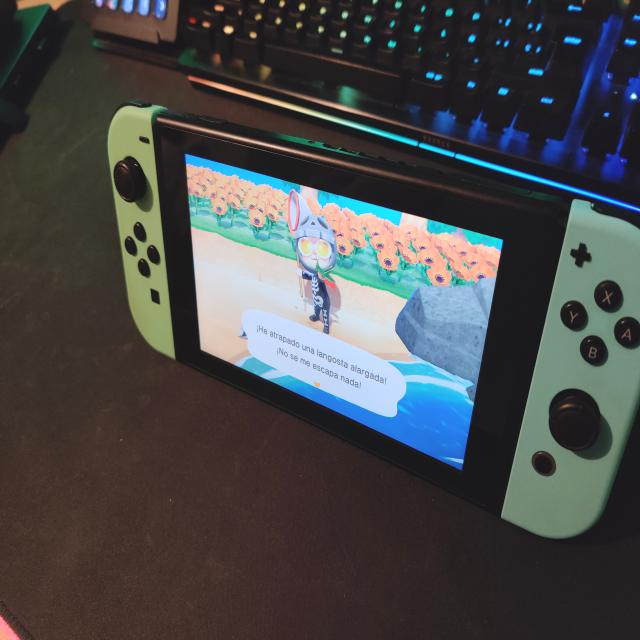text_bubble: (242, 308, 409, 421)
